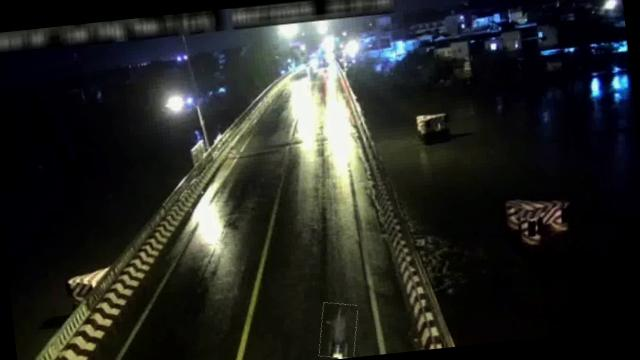Bike: (316, 301, 361, 360)
